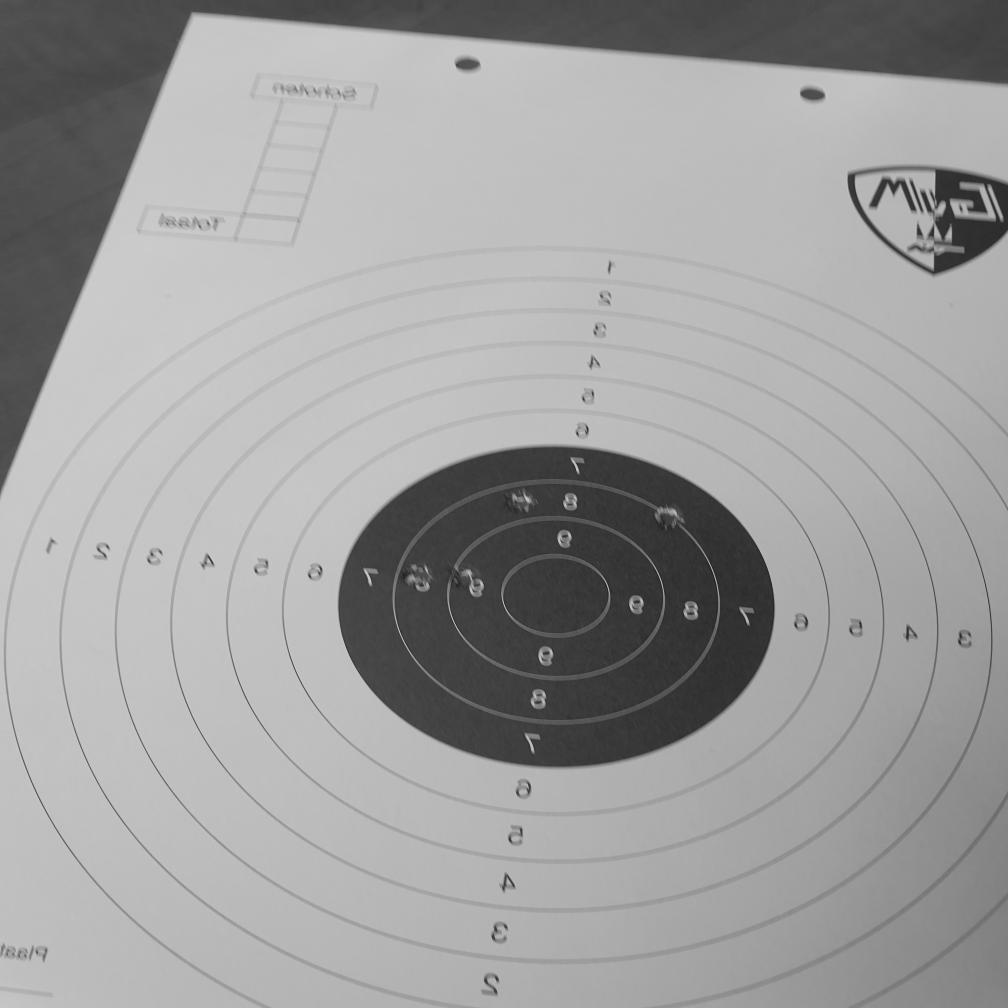8: (503, 488, 539, 514), (652, 506, 687, 531), (400, 564, 434, 588)
9: (447, 565, 482, 591)
Target: (0, 241, 1008, 1008)
black_contour: (337, 446, 777, 766)
